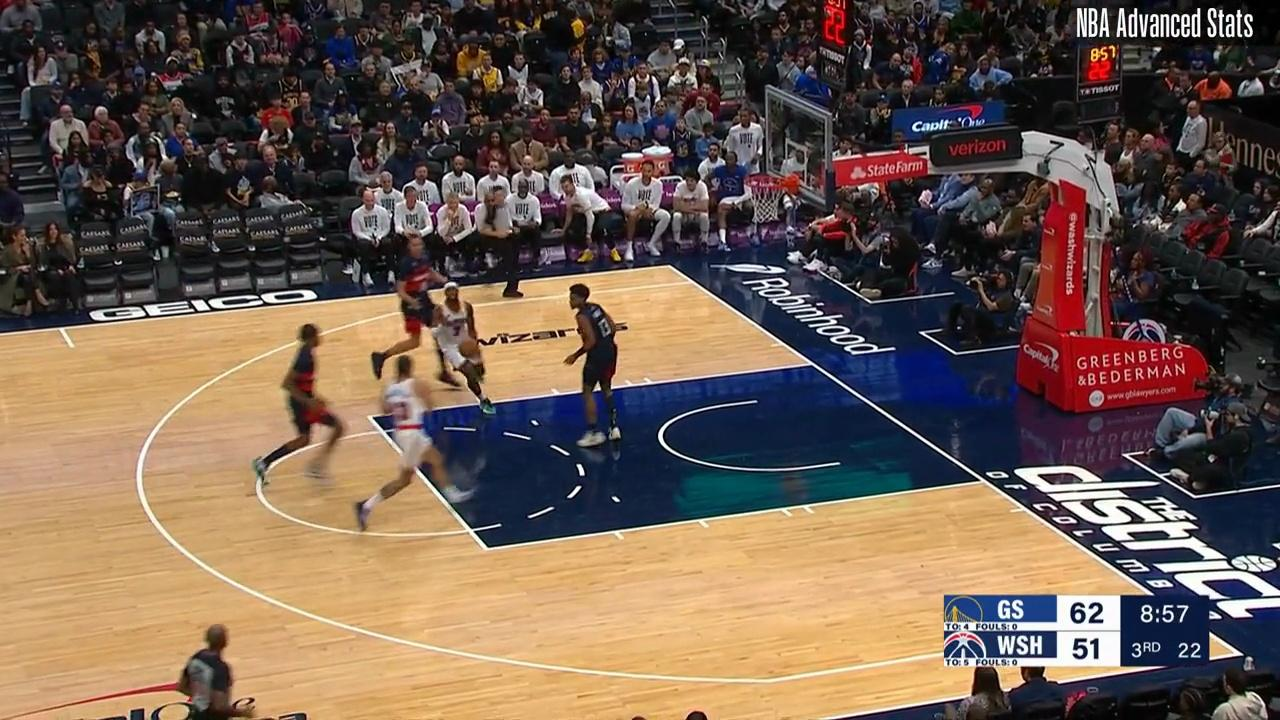basketball: (457, 337, 481, 360)
